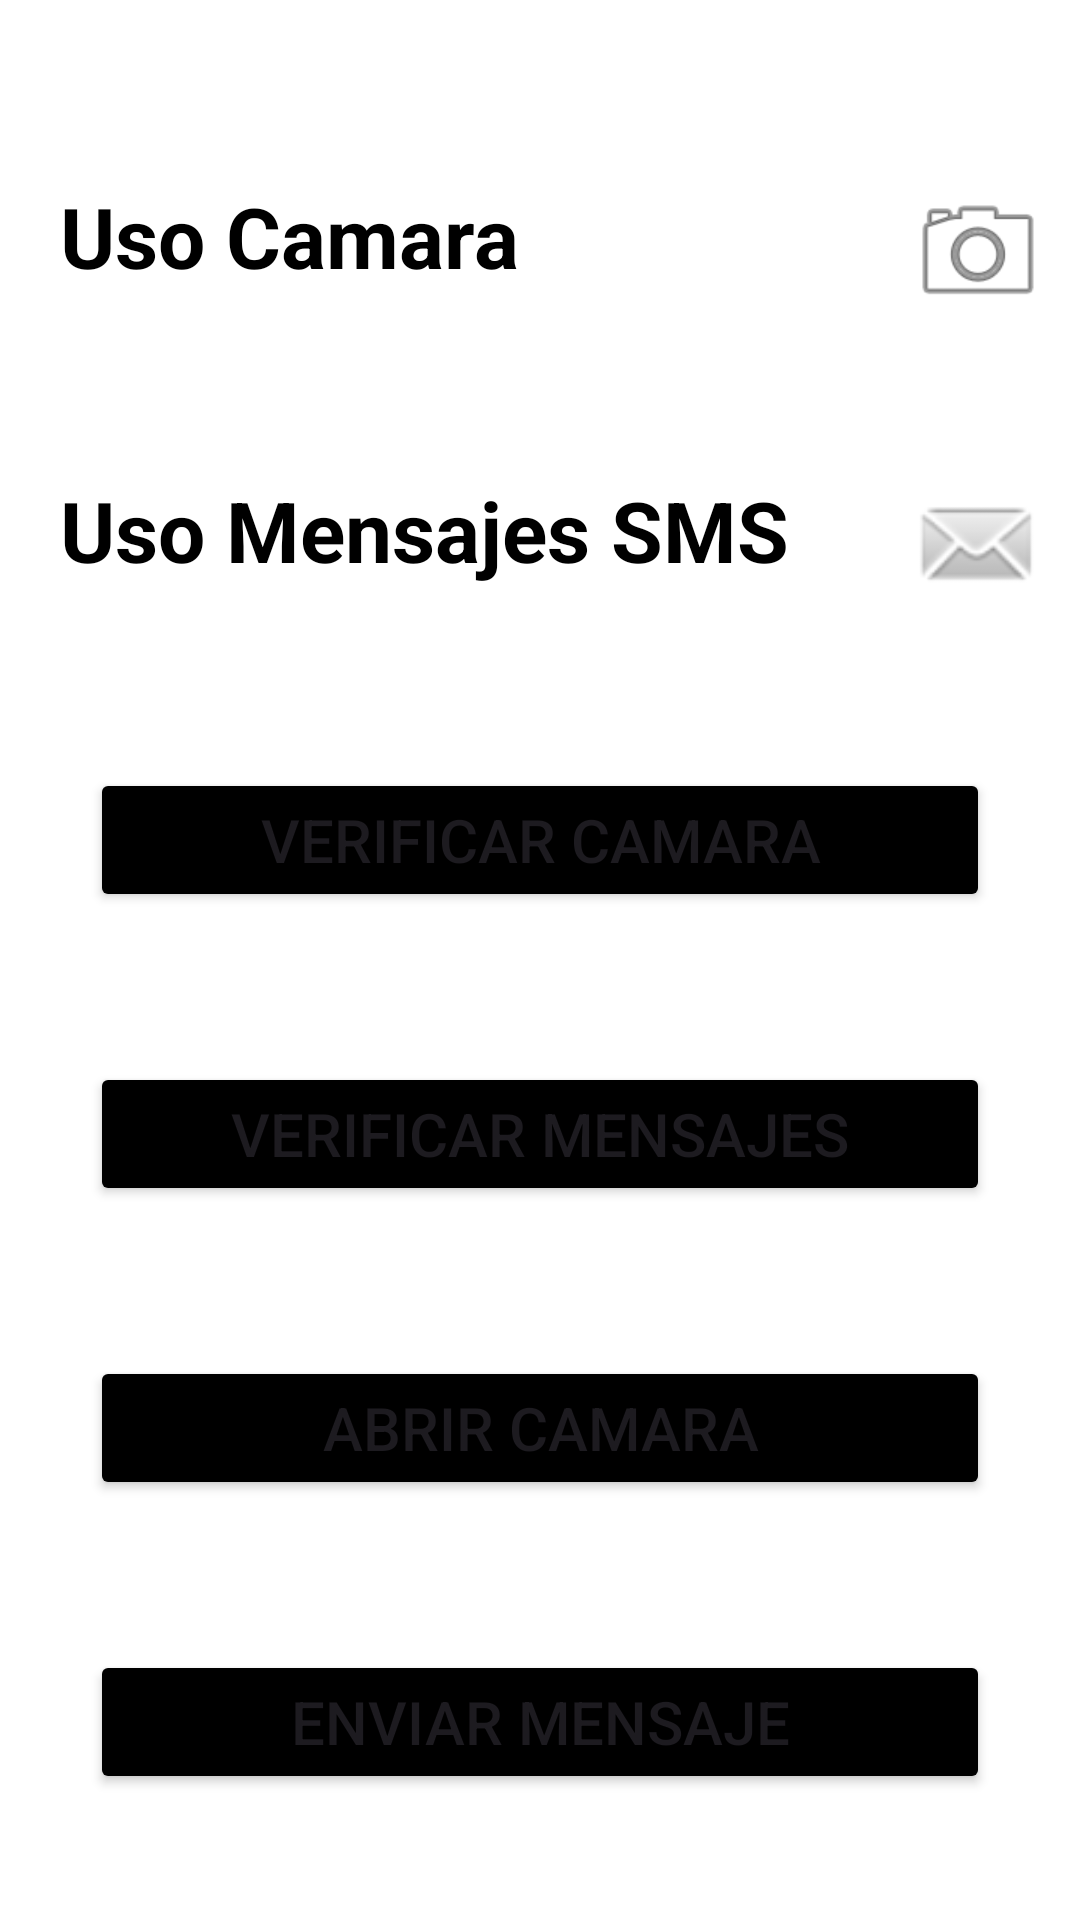

Icon bounding boxes for this 1080*1920 phone screenshot, format (x1, y1, x2, y2):
camera: (922, 205, 1034, 294)
sym action email: (922, 508, 1031, 580)
